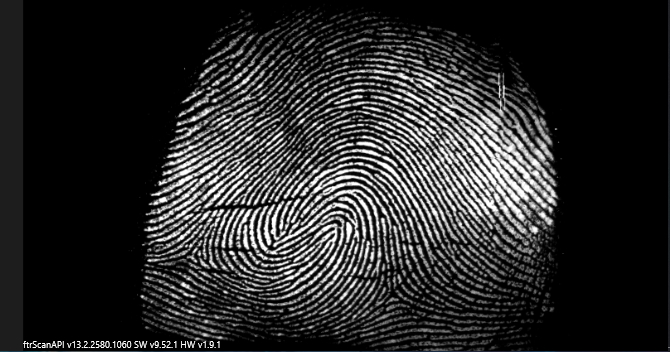deltas: (172, 219, 220, 283), (371, 264, 426, 314)
nucleo: (267, 185, 359, 252)
